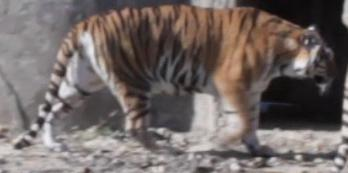tiger: (39, 4, 336, 154)
